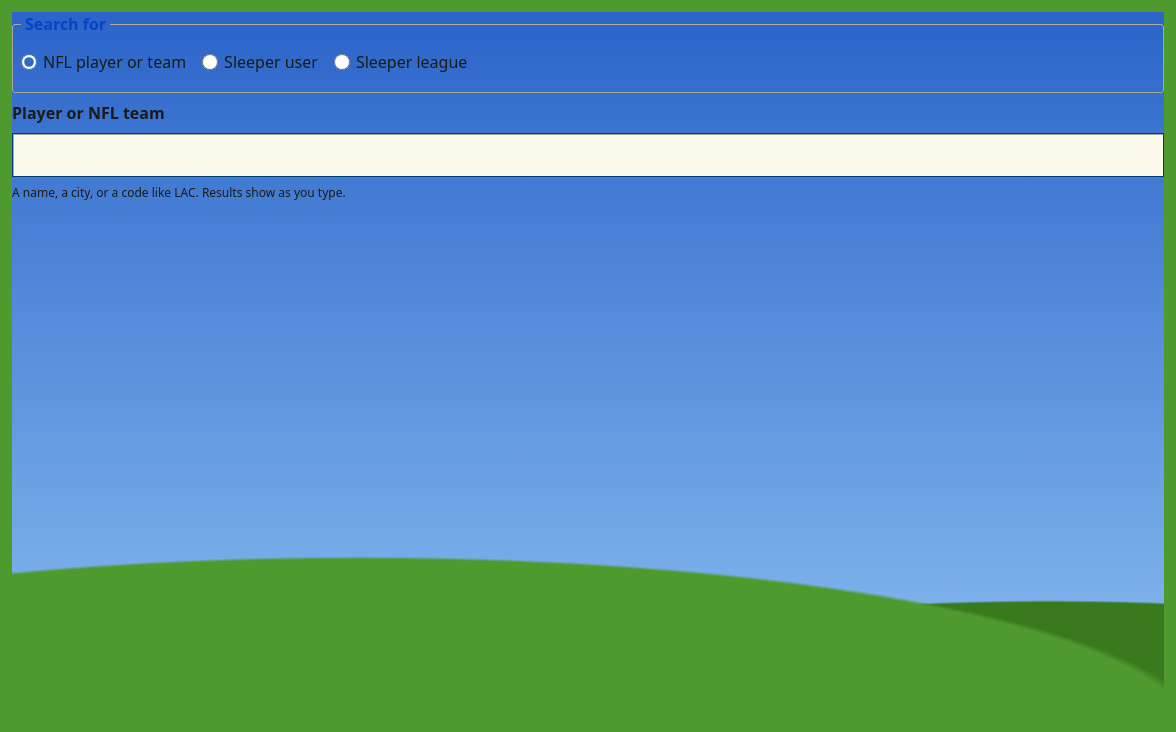
Test case: Search window, NFL › says when nothing matches
Type "zzzz" into the dropdown labelled "Player or NFL team" at x=588, y=155, box top-left (12, 133), bottom-right (1164, 177)
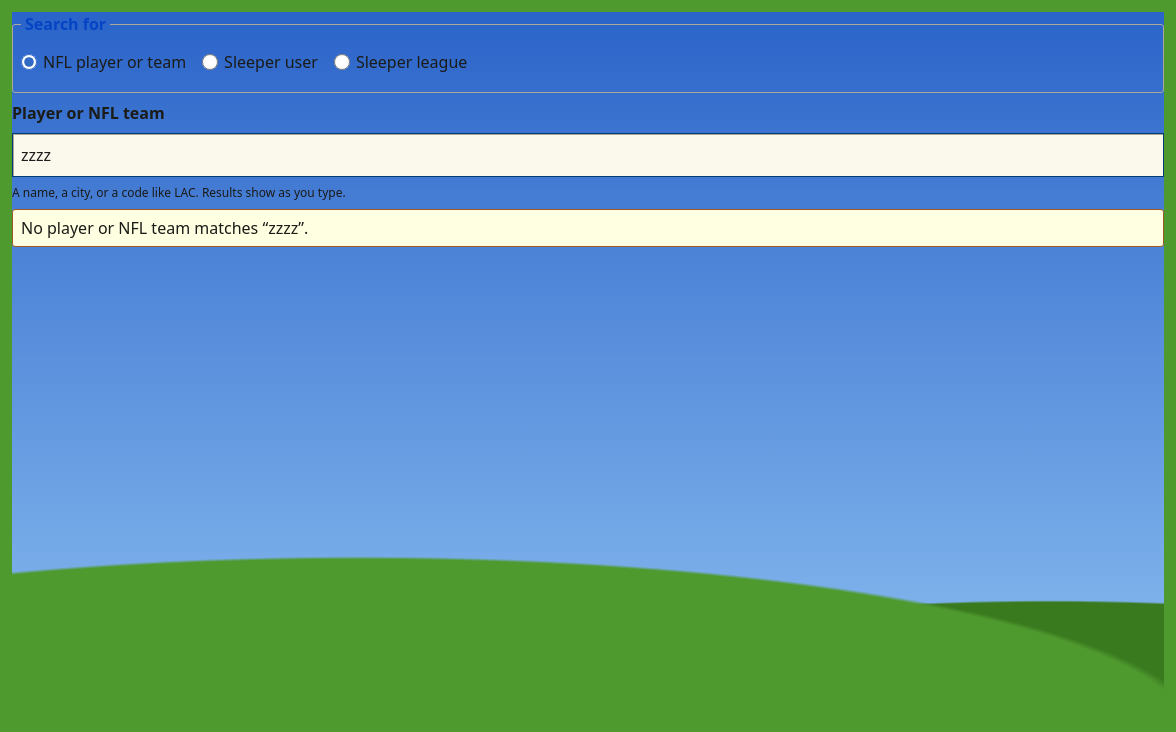
Now the text "No player or NFL team matches “zzzz”." is shown, box top-left (12, 209), bottom-right (1164, 247)
